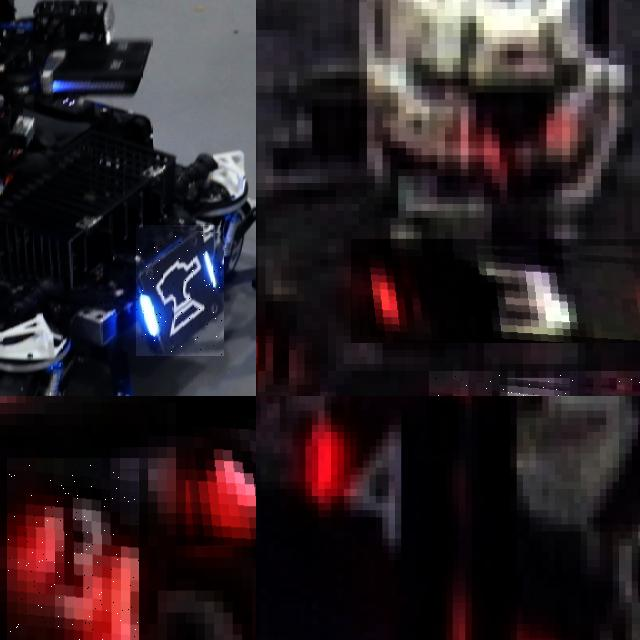Bs: (136, 225, 225, 356)
R3: (351, 238, 640, 343), (7, 458, 139, 640), (176, 396, 256, 546)
